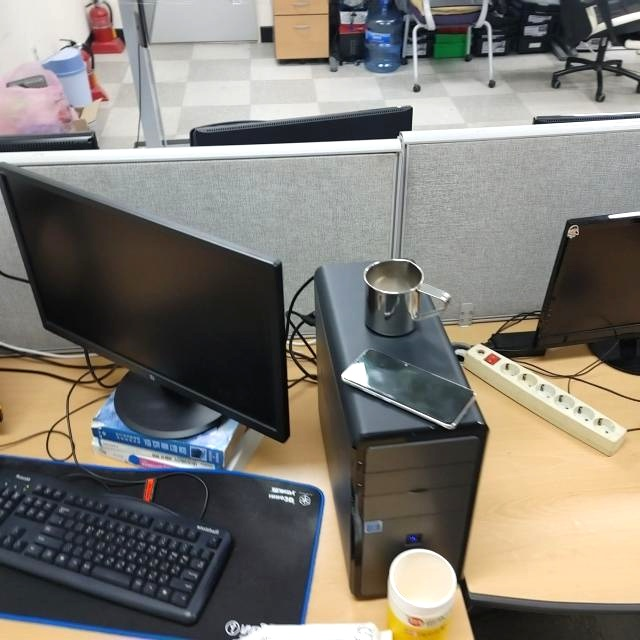cup: (363, 256, 451, 342)
phone: (338, 349, 478, 430)
